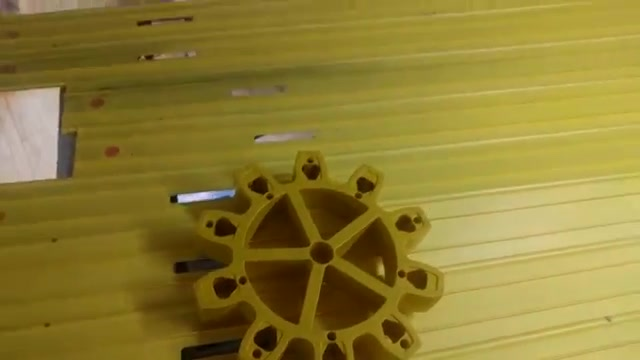gear: (178, 138, 457, 360)
